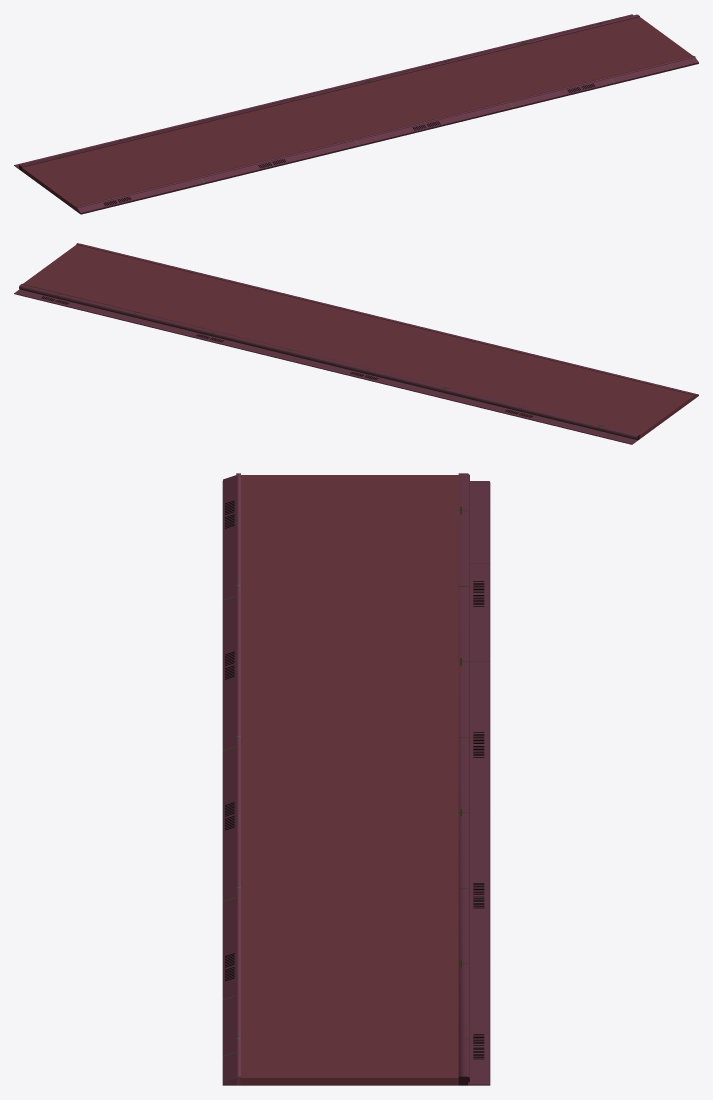
Rendered from W_M_16x3_Sidewalk_L1.fbx.
The picture shows the model from 3 angles, top to bottom: view 1: azimuth 30°, elevation 25°; view 2: azimuth 150°, elevation 25°; view 3: azimuth 270°, elevation 25°; orthographic projection. The views are drawn at different scales.
Visible parts, largest first — view 1: W_M_16x3_Sidewalk_L1; view 2: W_M_16x3_Sidewalk_L1; view 3: W_M_16x3_Sidewalk_L1.
Part boxes in pixels (left/top/right/bottom): W_M_16x3_Sidewalk_L1: left=14, top=14, right=698, bottom=214; W_M_16x3_Sidewalk_L1: left=14, top=243, right=698, bottom=444; W_M_16x3_Sidewalk_L1: left=222, top=473, right=490, bottom=1085.
Bounding box in the file's own units: 16 × 3 × 0.1229.
